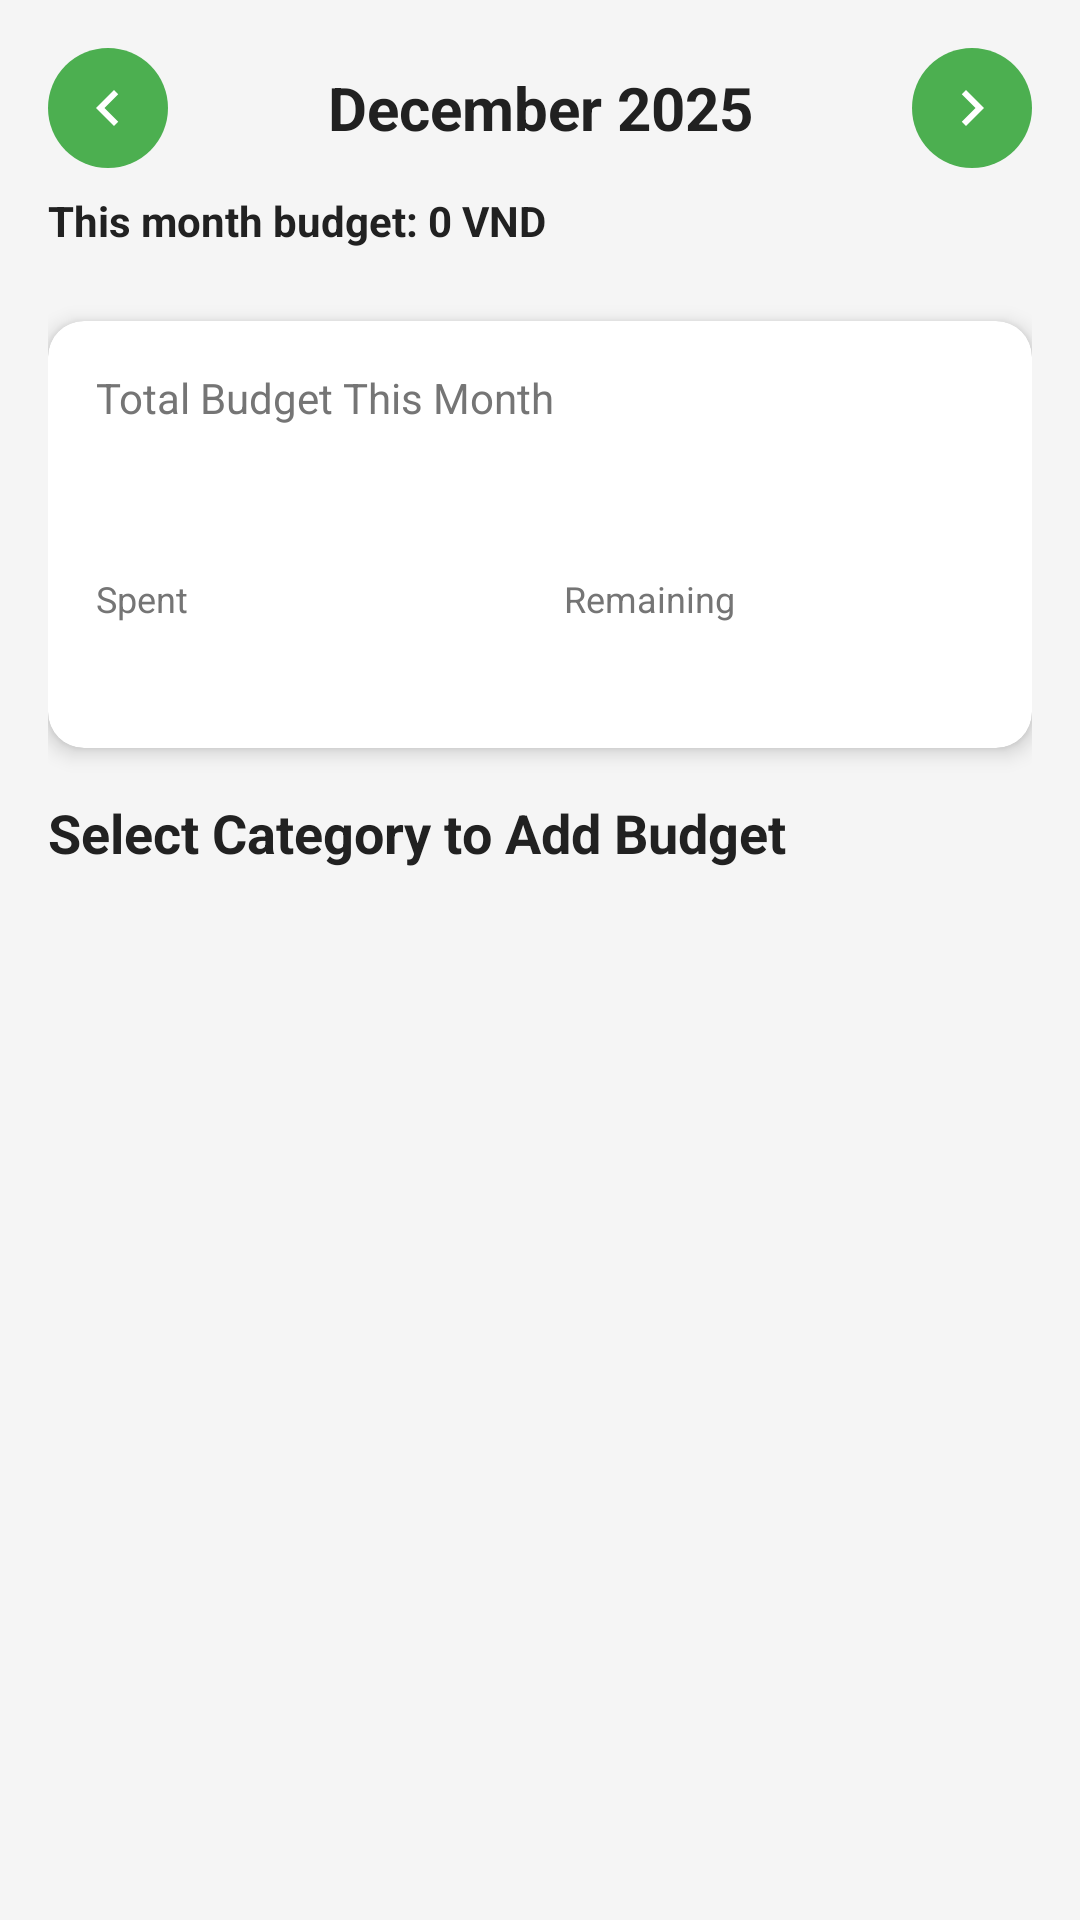

Locate icon controls on the screen. Image size 1080×1920, boxes as (x1, y1, x2, y2).
Next Month: (912, 48, 1032, 168)
Previous Month: (48, 48, 168, 168)
